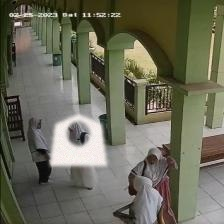Mukena: (49, 113, 107, 166)
